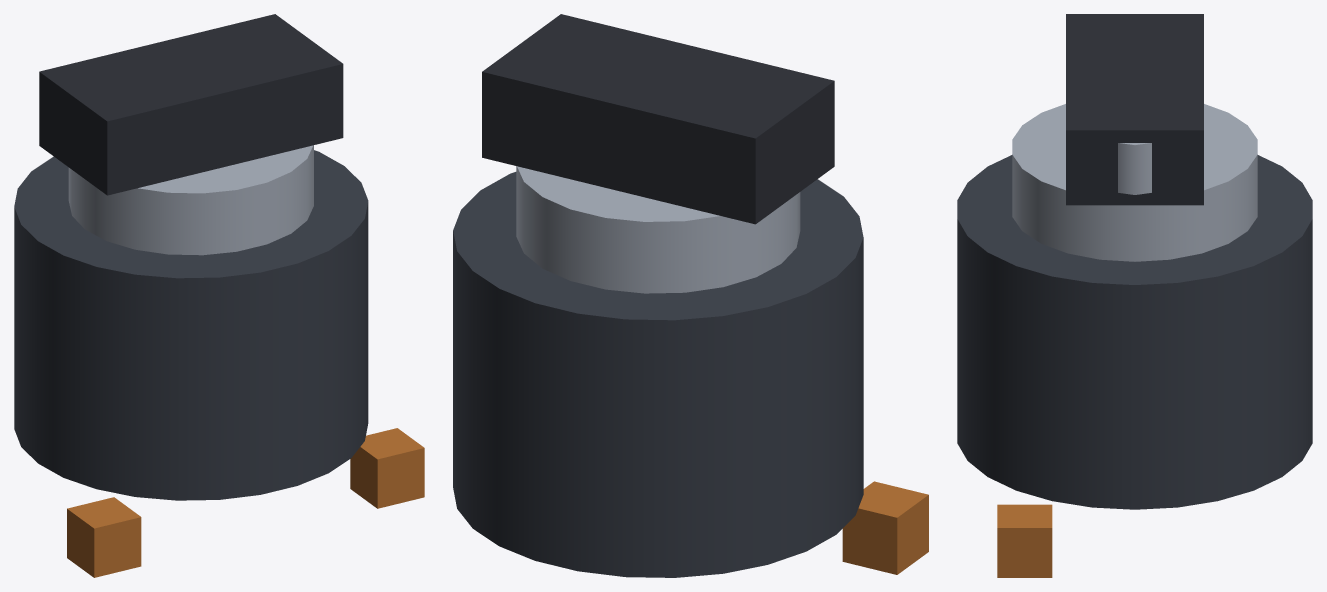
Rendered from kvi-man-03.glb.
3 renders of one model, left to right at view 1: azimuth 30°, elevation 25°; view 2: azimuth 150°, elevation 25°; view 3: azimuth 270°, elevation 25°, orthographic. The views are drawn at different scales.
Parts seen in each view (by area): view 1: Switch de encendido con 2 llaves; view 2: Switch de encendido con 2 llaves; view 3: Switch de encendido con 2 llaves.
Boxes of the visible parts, bbox=[...] form: Switch de encendido con 2 llaves: bbox=[14, 14, 424, 577]; Switch de encendido con 2 llaves: bbox=[453, 14, 928, 577]; Switch de encendido con 2 llaves: bbox=[957, 14, 1312, 577].
Size of the model in its own units: 0.8235 by 1 by 0.7591.
